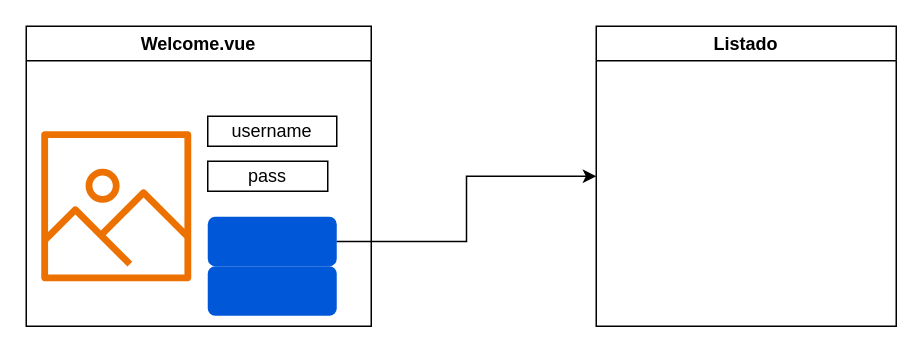
Image size: 923x353. Some labels were removed from this diagram. Here are the shapes that lost their labels. From the top down, the centre of each, then its label:
[271,241]: login
[271,290]: Register
